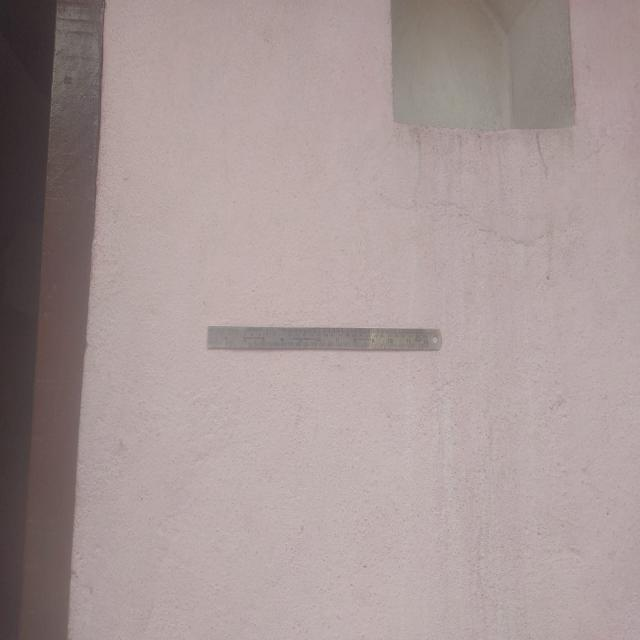scale: (206, 326, 441, 352)
